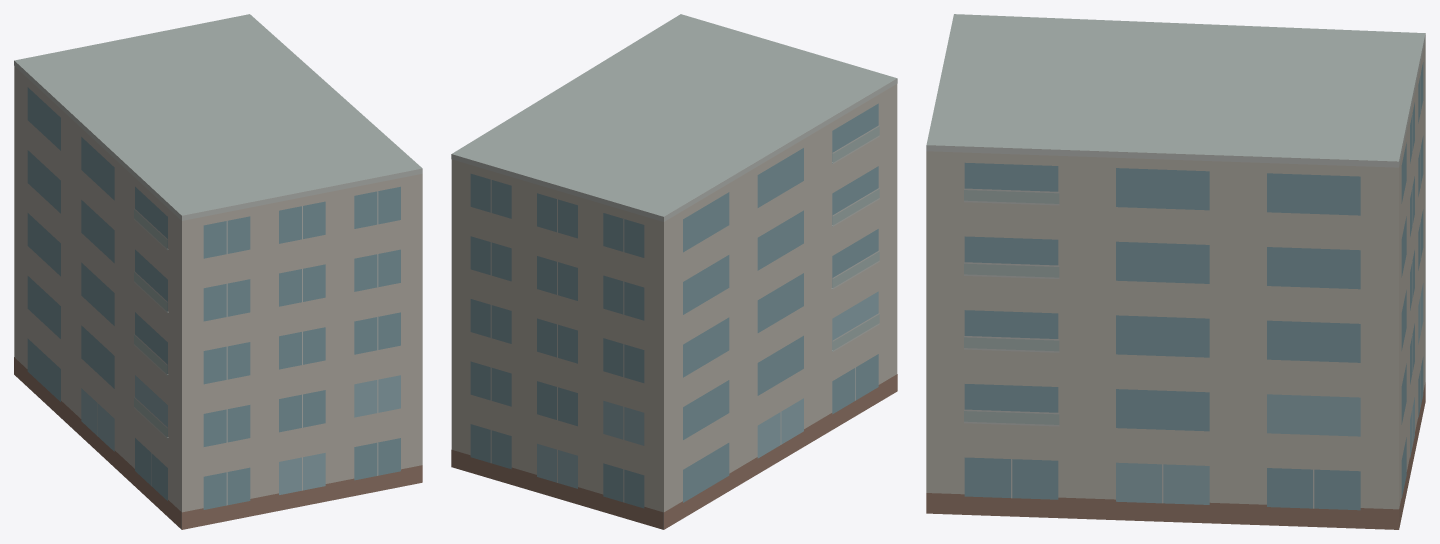
The model's file is survey-upis-32582986.glb.
3 renders of one model, left to right at view 1: azimuth 30°, elevation 25°; view 2: azimuth 150°, elevation 25°; view 3: azimuth 270°, elevation 25°, orthographic. The views are drawn at different scales.
Visible parts, largest first — view 1: survey-upis-32582986.tmp; view 2: survey-upis-32582986.tmp; view 3: survey-upis-32582986.tmp.
Part boxes in pixels (left/top/right/bottom): survey-upis-32582986.tmp: left=14, top=14, right=422, bottom=529; survey-upis-32582986.tmp: left=451, top=14, right=897, bottom=529; survey-upis-32582986.tmp: left=926, top=14, right=1425, bottom=529.
Size of the model in its own units: 12.64 by 14.7 by 18.06.
